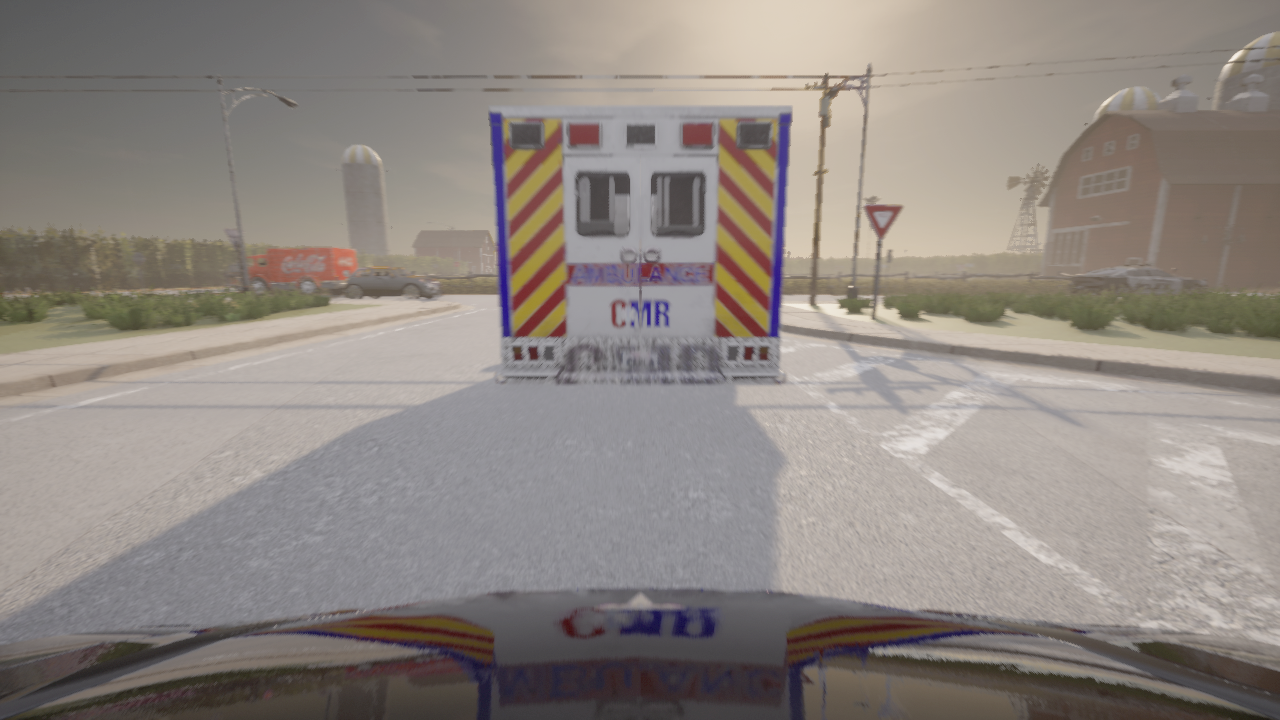cyclist: (0, 588, 1279, 719), (489, 105, 791, 384), (235, 247, 357, 296), (1068, 263, 1207, 296), (344, 267, 442, 299), (228, 263, 240, 289)
